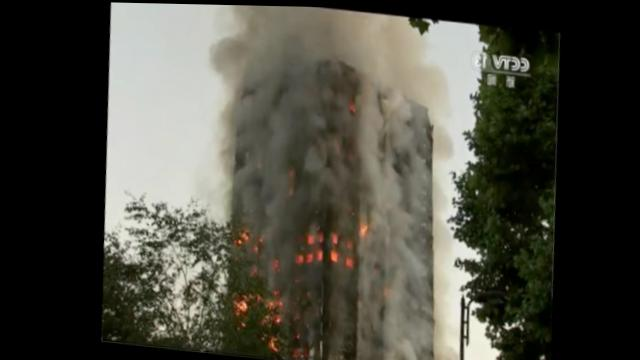smoke: (329, 108, 432, 359), (216, 102, 343, 277), (203, 41, 399, 115), (208, 4, 429, 62), (414, 124, 465, 359), (397, 60, 454, 115)
